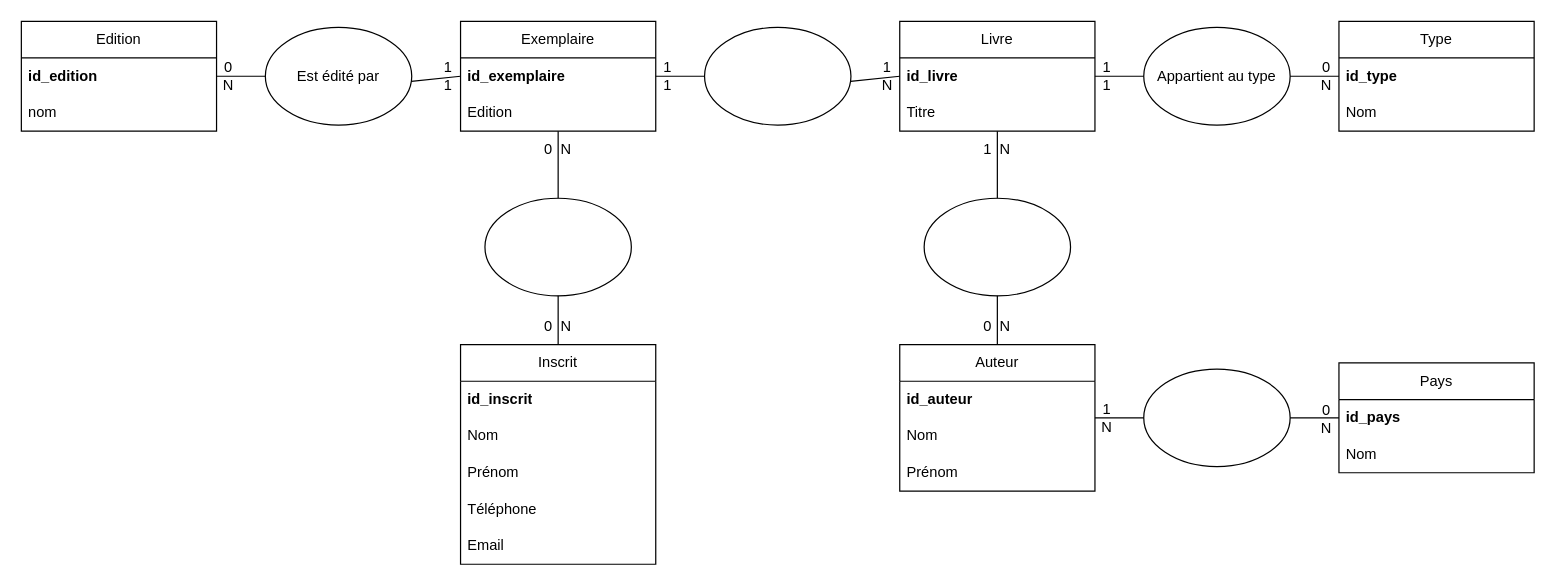
Some shapes in this 1556 by 586 pixel diagram are drawn without their labels. Each missing label, with the centre of its shape:
A écrit: (x=997, y=246)
Emprunte: (x=557, y=246)
Est de: (x=1216, y=417)
Est un exemplaire de: (x=777, y=75)
